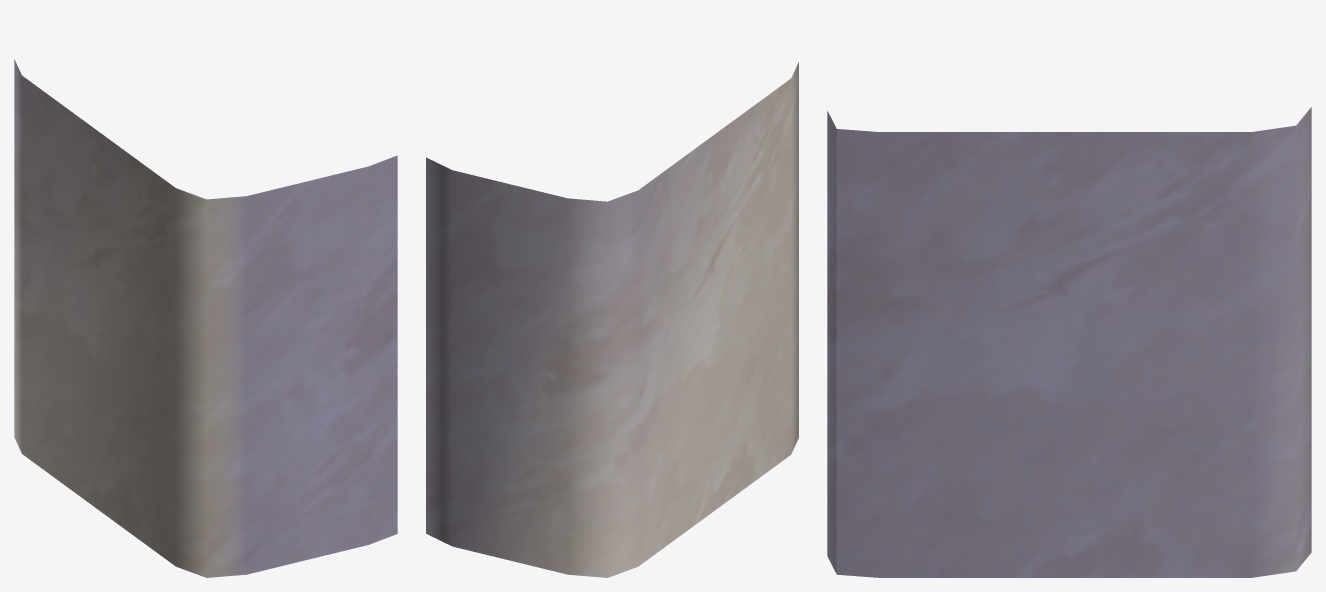
3 renders of one model, left to right at view 1: azimuth 30°, elevation 25°; view 2: azimuth 150°, elevation 25°; view 3: azimuth 270°, elevation 25°, orthographic. The views are drawn at different scales.
Visible parts, largest first — view 1: Joint_0_Object_0; view 2: Joint_0_Object_0; view 3: Joint_0_Object_0.
Part boxes in pixels (x1,y1,x2,y2): Joint_0_Object_0: (14, 59, 397, 577); Joint_0_Object_0: (426, 62, 798, 577); Joint_0_Object_0: (827, 107, 1311, 577).
Size of the model in its own units: 206 by 363 by 357.
1 material, 1 textured.
